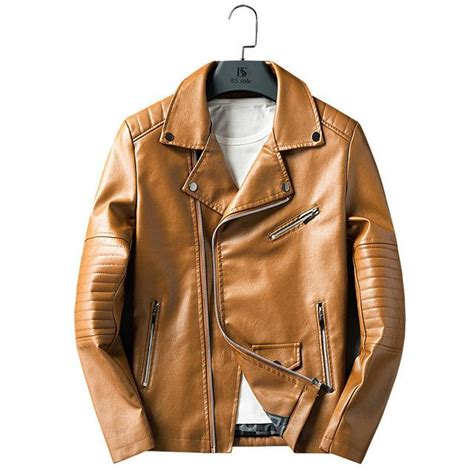cuero: (73, 59, 406, 461)
